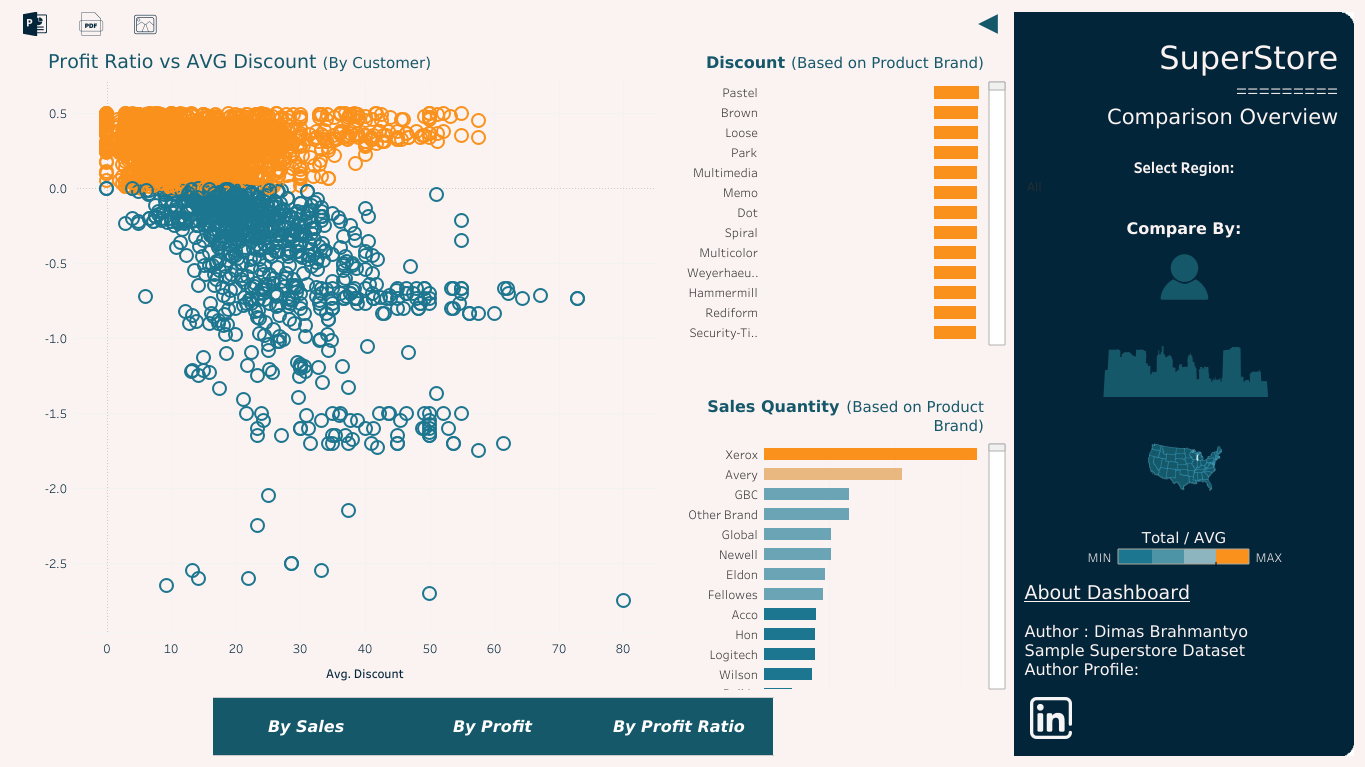

The page's visual inventory and layout, read from the dashboard file:
{"tool":"tableau","page":{"name":"Dashboard 2 - Comparison Overview (By Customer & Product Brand)","canvas":[1366,768],"ordinal":2},"visuals":[{"type":"dashboard-object","box":[8,8,54,32]},{"type":"dashboard-object","box":[62,8,60,32]},{"type":"dashboard-object","box":[122,8,47,32]},{"type":"worksheet","title":"Go Back","mark":"Shape","rows":["Calculation_132293265483010062"],"box":[965,8,45,32]},{"type":"image","param":"Image/2.png","box":[1010,8,348,752]},{"type":"text","box":[1025,21,316,125]},{"type":"worksheet","title":"Sheet 8","mark":"Shape","rows":["Calculation_132293265338007554"],"cols":["Calculation_1180506078092304394"],"box":[40,40,620,653]},{"type":"worksheet","title":"Based on Product Brand","mark":"Bar","rows":["Product Brand"],"box":[683,40,327,309]},{"type":"blank","box":[1025,155,318,50]},{"type":"setMembership","title":"Sheet 8","param":"[federated.1u37z9d020ffhv1e04nla11qurtp].[a1. Select Region Set]","box":[1025,155,318,50]},{"type":"text","box":[1027,213,314,30]},{"type":"dashboard-object","box":[1028,251,313,52]},{"type":"dashboard-object","box":[1028,345,314,52]},{"type":"worksheet","title":"Quantity Based on Product Brand","mark":"Automatic","rows":["Product Brand"],"cols":["Quantity"],"box":[683,384,327,309]},{"type":"dashboard-object","box":[1030,440,310,52]},{"type":"legend","title":"Based on Product Brand","param":"[federated.1u37z9d020ffhv1e04nla11qurtp].[usr:Calculation_132293265338007554:qk]","box":[1114,525,140,50]},{"type":"text","box":[1085,544,29,26]},{"type":"text","box":[1253,546,37,22]},{"type":"text","box":[1022,577,272,106]},{"type":"worksheet","title":"LinkedIn","mark":"Shape","rows":["Calculation_1125055507973922816"],"box":[1022,691,57,53]},{"type":"worksheet","title":"Field Button (Dashboard 2)","mark":"Shape","box":[209,693,569,67]}]}

Visuals, with their boxes in screenshot pixels (x1, y1, x2, y2), scaled from the page's 1366x768 canvas onto the 1365x767 screenshot:
dashboard-object: 8,8,62,40
dashboard-object: 62,8,122,40
dashboard-object: 122,8,169,40
"Go Back" worksheet (Shape marks): 964,8,1009,40
image: 1009,8,1357,759
text: 1024,21,1340,146
"Sheet 8" worksheet (Shape marks): 40,40,660,692
"Based on Product Brand" worksheet (Bar marks): 682,40,1009,349
blank: 1024,155,1342,205
"Sheet 8" setMembership: 1024,155,1342,205
text: 1026,213,1340,243
dashboard-object: 1027,251,1340,303
dashboard-object: 1027,345,1341,396
"Quantity Based on Product Brand" worksheet: 682,384,1009,692
dashboard-object: 1029,439,1339,491
"Based on Product Brand" legend: 1113,524,1253,574
text: 1084,543,1113,569
text: 1252,545,1289,567
text: 1021,576,1293,682
"LinkedIn" worksheet (Shape marks): 1021,690,1078,743
"Field Button (Dashboard 2)" worksheet (Shape marks): 209,692,777,759
